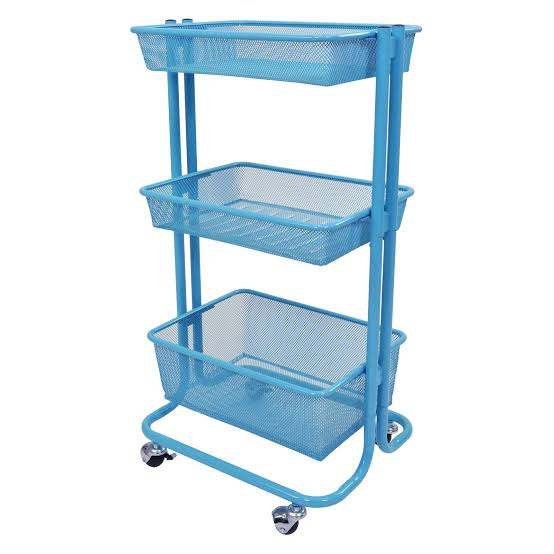Carts: (129, 17, 413, 535)
